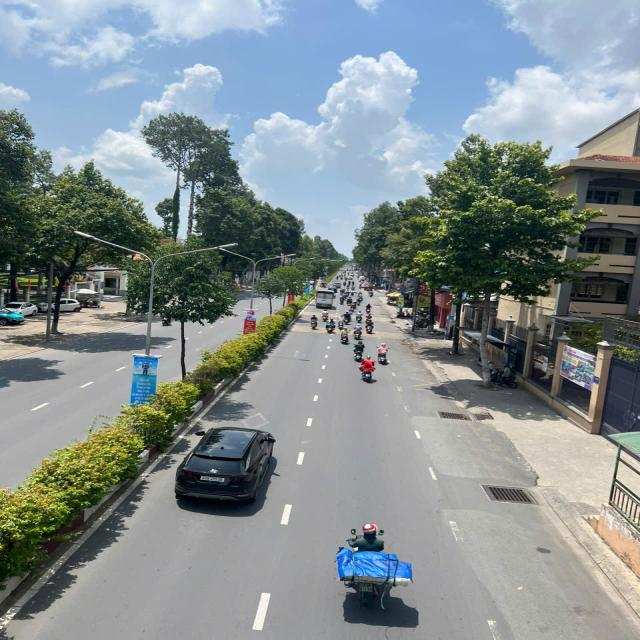ben: (312, 284, 336, 310)
car: (166, 416, 282, 513)
motobyte: (338, 518, 397, 614), (358, 352, 377, 385), (374, 340, 392, 368), (350, 336, 366, 364), (323, 315, 337, 336), (339, 324, 351, 346), (352, 320, 365, 340), (309, 311, 319, 333)
